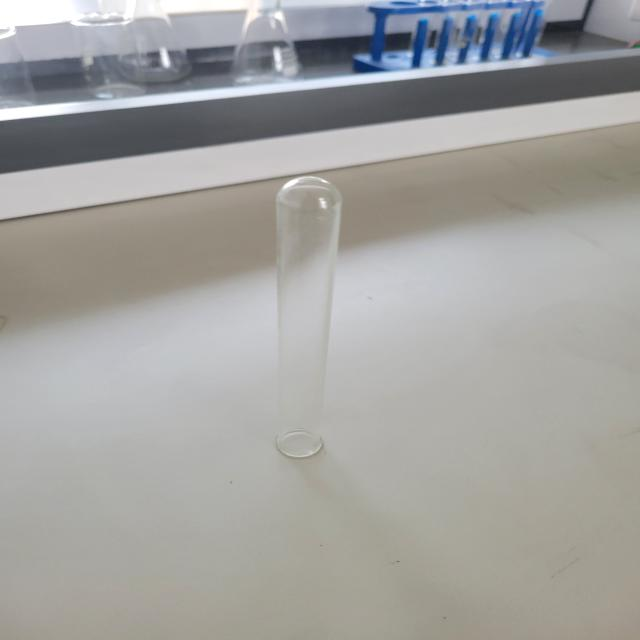Test_Tube: (242, 140, 382, 497)
